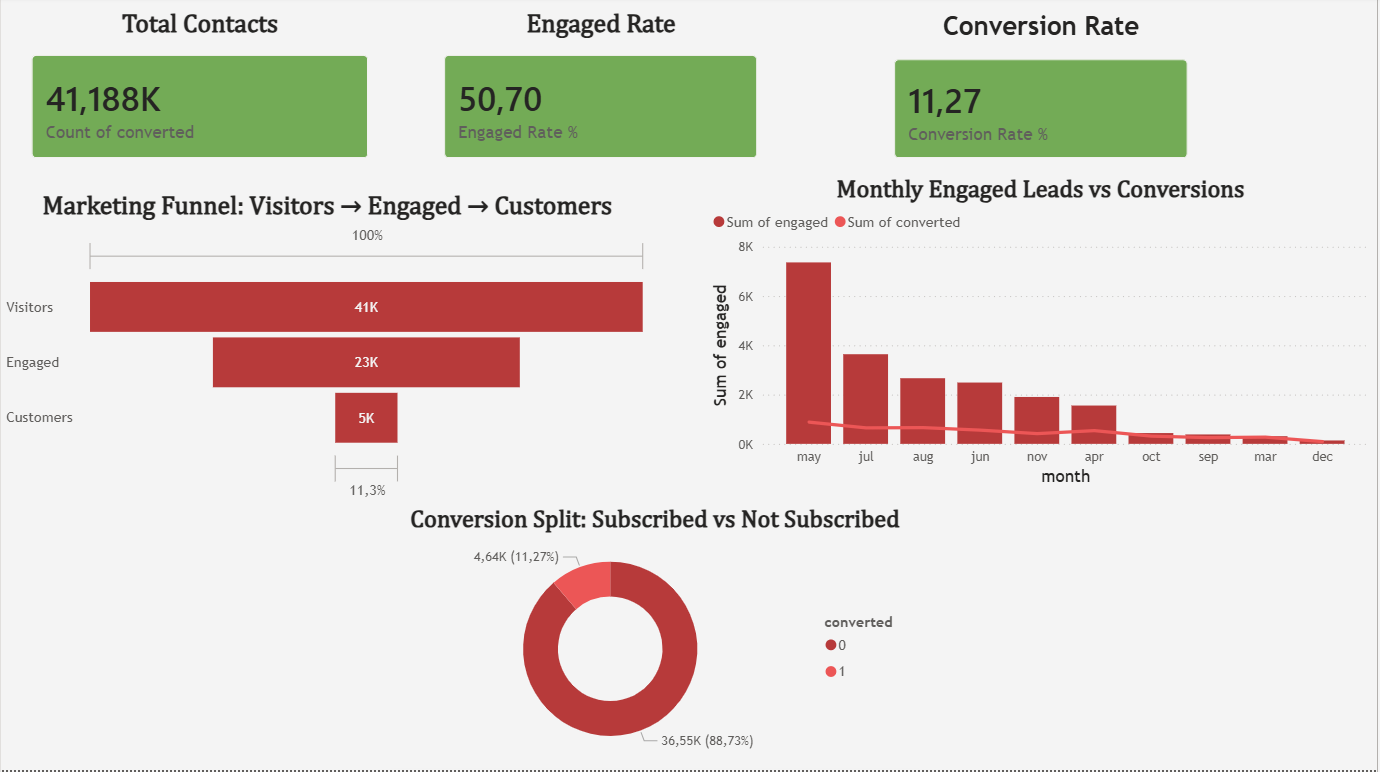

This screenshot's page, from the dashboard's own definition file:
{"tool":"powerbi","page":{"name":"Funnel Overview","canvas":[1280,720],"ordinal":0},"visuals":[{"type":"funnel","title":" Marketing Funnel: Visitors → Engaged → Customers","fields":{"Category":["FunnelStages.Stage"],"Y":["Sum(FunnelStages.Count)"]},"box":[0,182.9,607.1,292.9],"z":0},{"type":"cardVisual","title":"Total Contacts","fields":{"Data":["CountNonNull(cleaned_marketing_funnel.converted)"]},"box":[11.4,14.3,347.1,154.3],"z":1000},{"type":"cardVisual","title":"Engaged Rate","fields":{"Data":["FunnelStages.Engaged Rate %"]},"box":[395.7,14.3,325.7,154.3],"z":2000},{"type":"cardVisual","title":"Conversion Rate","fields":{"Data":["FunnelStages.Conversion Rate %"]},"box":[814.3,14.3,307.1,154.3],"z":3000},{"type":"donutChart","title":" Conversion Split: Subscribed vs Not Subscribed","fields":{"Y":["CountNonNull(cleaned_marketing_funnel.converted)"],"Category":["cleaned_marketing_funnel.converted"]},"box":[362.5,475,491.2,243.8],"z":4000},{"type":"lineClusteredColumnComboChart","title":" Monthly Engaged Leads vs Conversions","fields":{"Y":["Sum(cleaned_marketing_funnel.engaged)"],"Y2":["Sum(cleaned_marketing_funnel.converted)"],"Category":["cleaned_marketing_funnel.month"]},"box":[657.5,167.5,620,292.5],"z":5000}]}

Visuals, with their boxes in screenshot pixels (x1, y1, x2, y2), scaled from the page's 1280x720 canvas onto the 1380x772 screenshot:
" Marketing Funnel: Visitors → Engaged → Customers" funnel: l=0, t=196, r=655, b=510
"Total Contacts" cardVisual: l=12, t=15, r=387, b=181
"Engaged Rate" cardVisual: l=427, t=15, r=778, b=181
"Conversion Rate" cardVisual: l=878, t=15, r=1209, b=181
" Conversion Split: Subscribed vs Not Subscribed" donutChart: l=391, t=509, r=920, b=771
" Monthly Engaged Leads vs Conversions" lineClusteredColumnComboChart: l=709, t=180, r=1377, b=493
